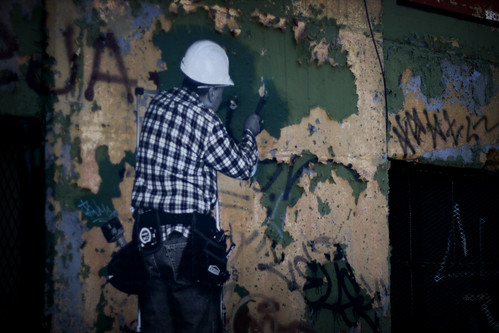person hardhat: (125, 39, 277, 333)
